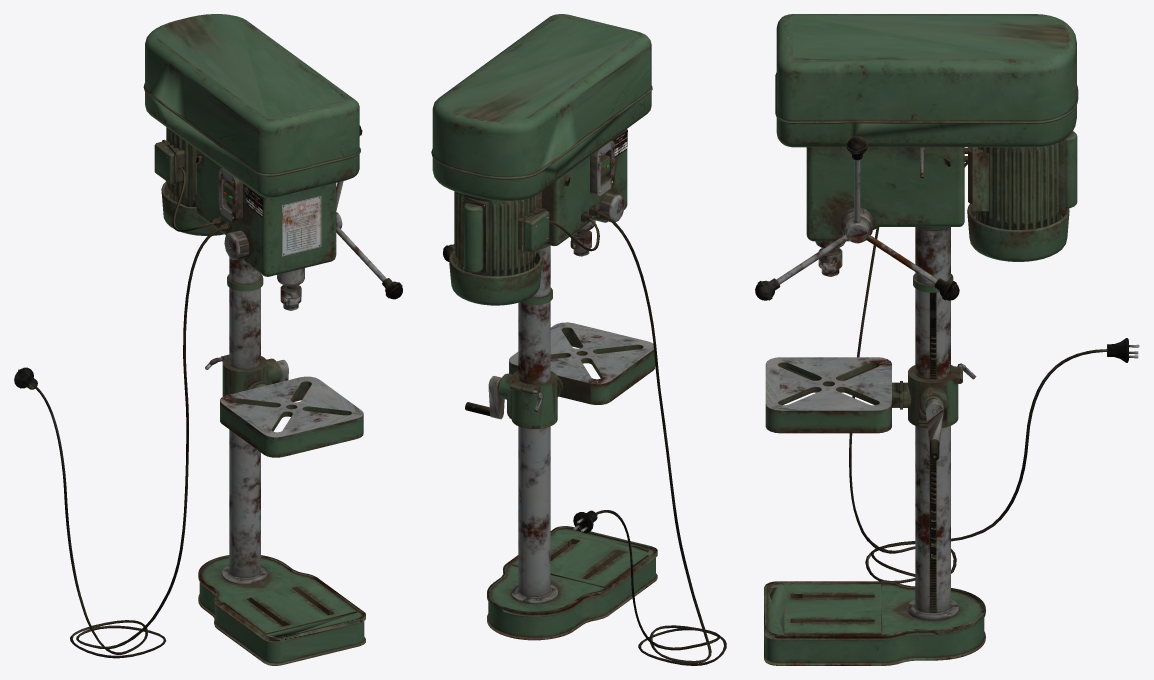
File: old-drill-press.glb
3 views of the same model, side by side, from view 1: azimuth 30°, elevation 25°; view 2: azimuth 150°, elevation 25°; view 3: azimuth 270°, elevation 25° (orthographic). The views are drawn at different scales.
Visible parts, largest first — view 1: old_drill_press; view 2: old_drill_press; view 3: old_drill_press.
Boxes of the visible parts, x1=… form: old_drill_press: x1=14, y1=14, x2=402, y2=665; old_drill_press: x1=431, y1=14, x2=726, y2=665; old_drill_press: x1=755, y1=14, x2=1139, y2=665.
Bounding box in the file's own units: 0.527 × 1.05 × 0.6092.
1 material, 1 textured.
